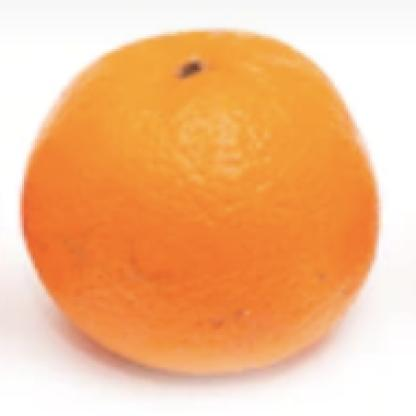fresh: (19, 31, 385, 370)
